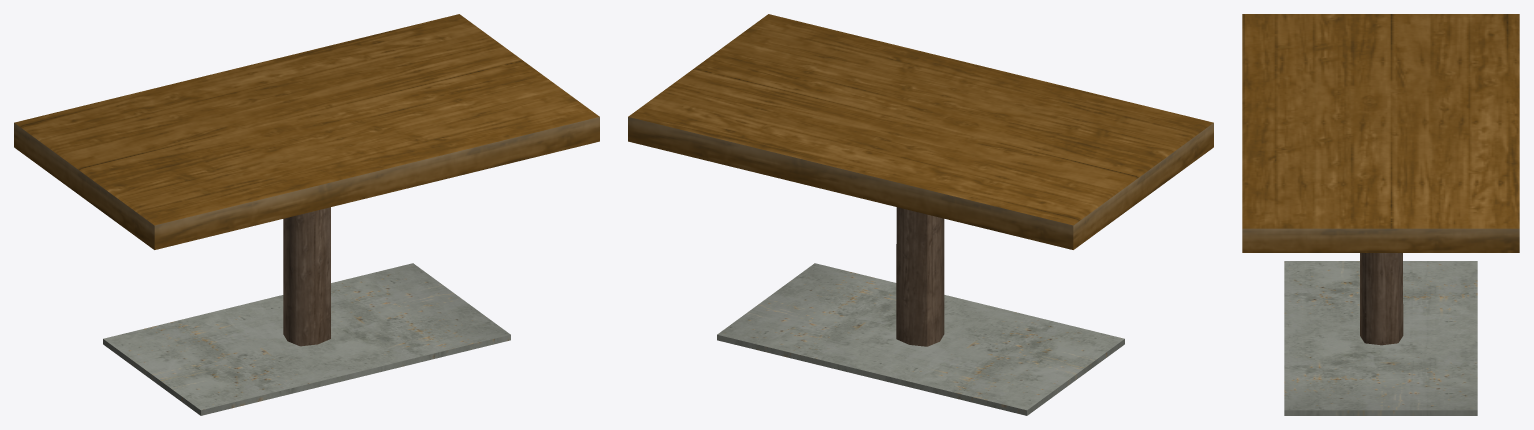
Rendered from table03a.fbx.
The picture shows the model from 3 angles, left to right: view 1: azimuth 30°, elevation 25°; view 2: azimuth 150°, elevation 25°; view 3: azimuth 270°, elevation 25°; orthographic projection.
Visible parts, largest first — view 1: table03a; view 2: table03a; view 3: table03a.
Boxes of the visible parts, bbox=[...] form: table03a: bbox=[14, 14, 599, 415]; table03a: bbox=[628, 14, 1213, 415]; table03a: bbox=[1242, 14, 1519, 415].
Bounding box in the file's own units: 185 × 89.03 × 101.
